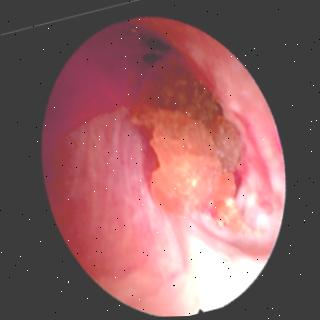stone: (131, 61, 256, 236)
tissue: (43, 22, 277, 306)
